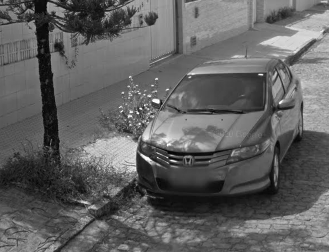car: (133, 46, 307, 202)
